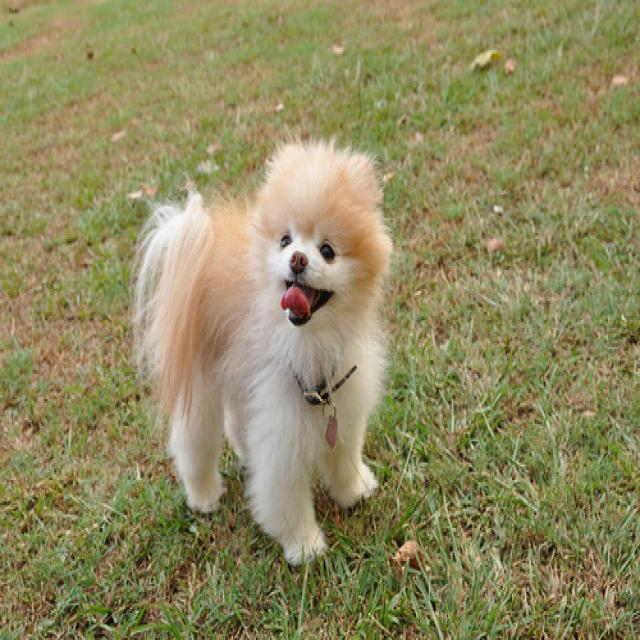dog-pomeranian: (129, 123, 402, 571)
